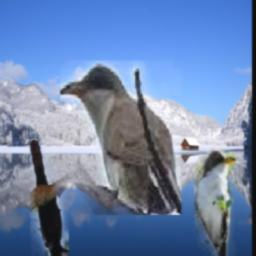Crow: (30, 140, 69, 256)
Cuckoo: (60, 60, 181, 215), (196, 149, 237, 256)
